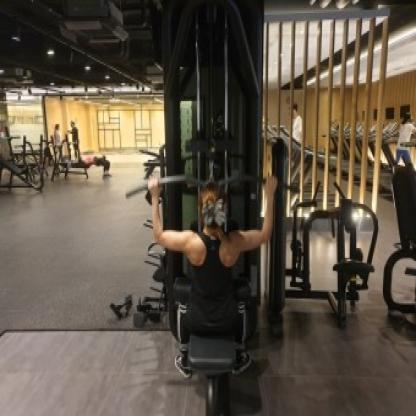Lat Pull Down: (108, 2, 294, 416)
